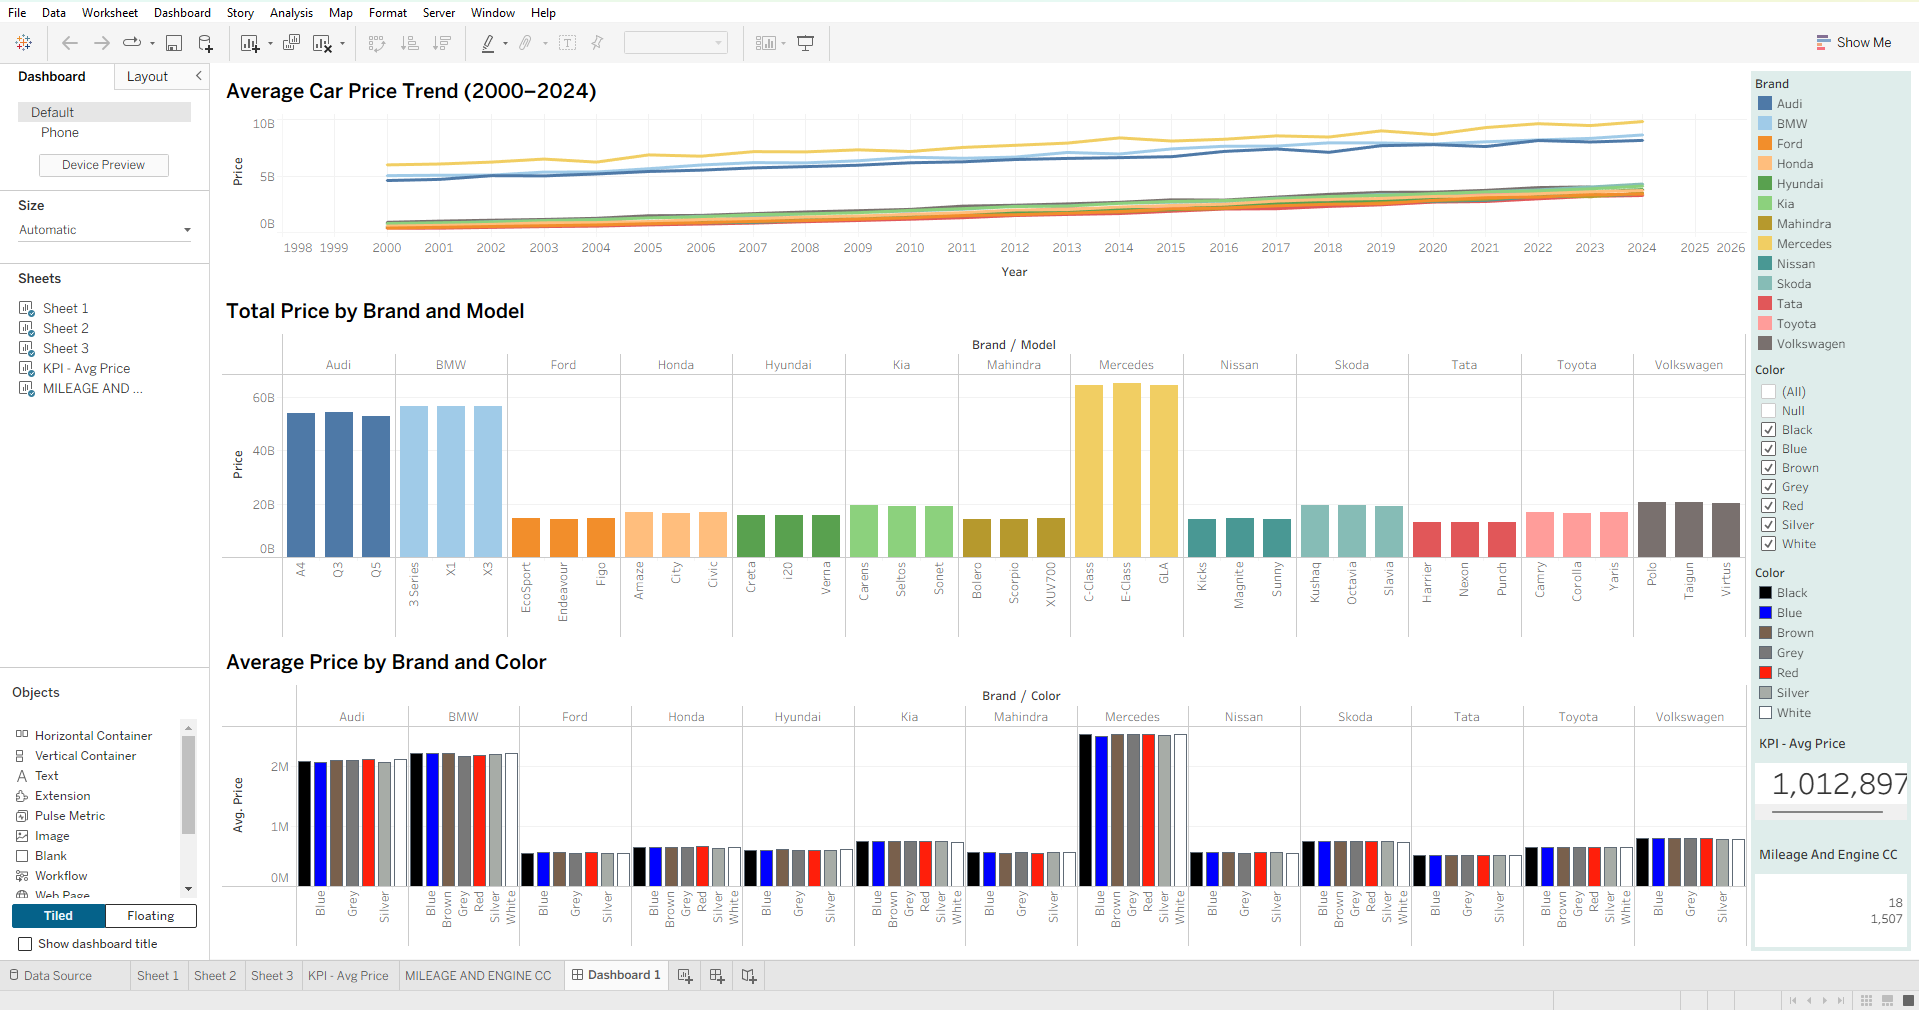

The page's visual inventory and layout, read from the dashboard file:
{"tool":"tableau","page":{"name":"Dashboard 1","canvas":[1000,1000],"units":"permille","ordinal":0},"visuals":[{"type":"worksheet","title":"Sheet 1","mark":"Automatic","rows":["Price"],"cols":["Year"],"box":[4.7,8.9,897.3,245.5]},{"type":"legend","title":"Sheet 1","param":"[federated.0134h4i0rgb65b1f15a5j1lr8ty4].[none:Brand:nk]","box":[902,8.9,93.4,319.2]},{"type":"worksheet","title":"Sheet 2","mark":"Automatic","rows":["Price"],"cols":["Brand","Model"],"box":[4.7,254.5,897.3,391.7]},{"type":"filter","title":"Sheet 3","param":"[federated.0134h4i0rgb65b1f15a5j1lr8ty4].[none:Color:nk]","box":[902,328.1,93.4,226.6]},{"type":"legend","title":"Sheet 3","param":"[federated.0134h4i0rgb65b1f15a5j1lr8ty4].[none:Color:nk]","box":[902,554.7,93.4,185.3]},{"type":"worksheet","title":"Sheet 3","mark":"Automatic","rows":["Price"],"cols":["Brand","Color"],"box":[4.7,646.2,897.3,344.9]},{"type":"worksheet","title":"KPI - Avg Price","mark":"Automatic","box":[902,740,93.4,123.9]},{"type":"worksheet","title":"MILEAGE AND ENGINE CC","mark":"Automatic","box":[902,863.9,93.4,127.2]}]}

Visuals, with their boxes on the dashboard's canvas, which has no fixed pixel size, in thousandths of its width and height (x1, y1, x2, y2). These are canvas units, not pixel positions in the 1919x1010 screenshot, which may show the page scaled, cropped or inside an application window:
"Sheet 1" worksheet: <bbox>5, 9, 902, 254</bbox>
"Sheet 1" legend: <bbox>902, 9, 995, 328</bbox>
"Sheet 2" worksheet: <bbox>5, 254, 902, 646</bbox>
"Sheet 3" filter: <bbox>902, 328, 995, 555</bbox>
"Sheet 3" legend: <bbox>902, 555, 995, 740</bbox>
"Sheet 3" worksheet: <bbox>5, 646, 902, 991</bbox>
"KPI - Avg Price" worksheet: <bbox>902, 740, 995, 864</bbox>
"MILEAGE AND ENGINE CC" worksheet: <bbox>902, 864, 995, 991</bbox>
